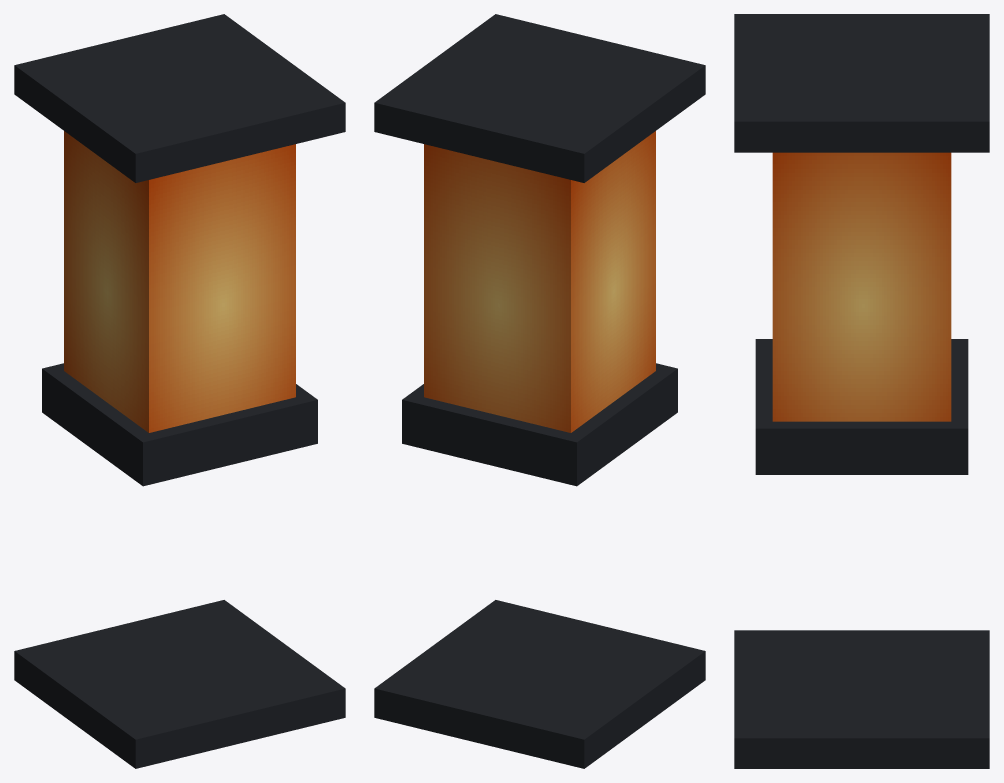
File: lantern.dae
3 renders of one model, left to right at view 1: azimuth 30°, elevation 25°; view 2: azimuth 150°, elevation 25°; view 3: azimuth 270°, elevation 25°, orthographic. The views are drawn at different scales.
Parts seen in each view (by area): view 1: Glass, Frame, Post, Cap; view 2: Glass, Frame, Post, Cap; view 3: Glass, Frame, Post, Cap.
Boxes of the visible parts, <box> form: Glass: <box>64,131,295,432</box>; Frame: <box>14,14,345,182</box>; Post: <box>14,600,345,768</box>; Cap: <box>42,363,317,486</box>; Glass: <box>424,131,655,432</box>; Frame: <box>374,14,705,182</box>; Post: <box>374,600,705,768</box>; Cap: <box>402,363,677,486</box>; Glass: <box>772,152,951,421</box>; Frame: <box>734,14,989,152</box>; Post: <box>734,630,989,768</box>; Cap: <box>755,339,968,474</box>.
Size of the model in its own units: 0.6 by 1.68 by 0.6.
Materials: 2 (1 with a texture image).
